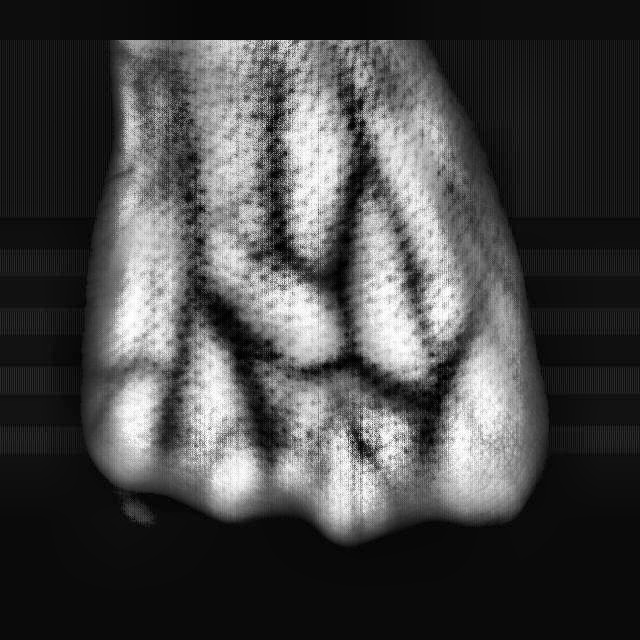Vein: (328, 168, 371, 352)
